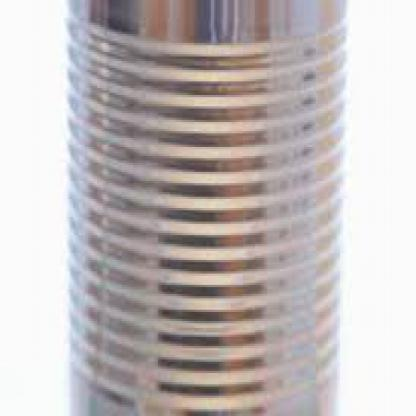Compsot: (65, 0, 346, 414)
